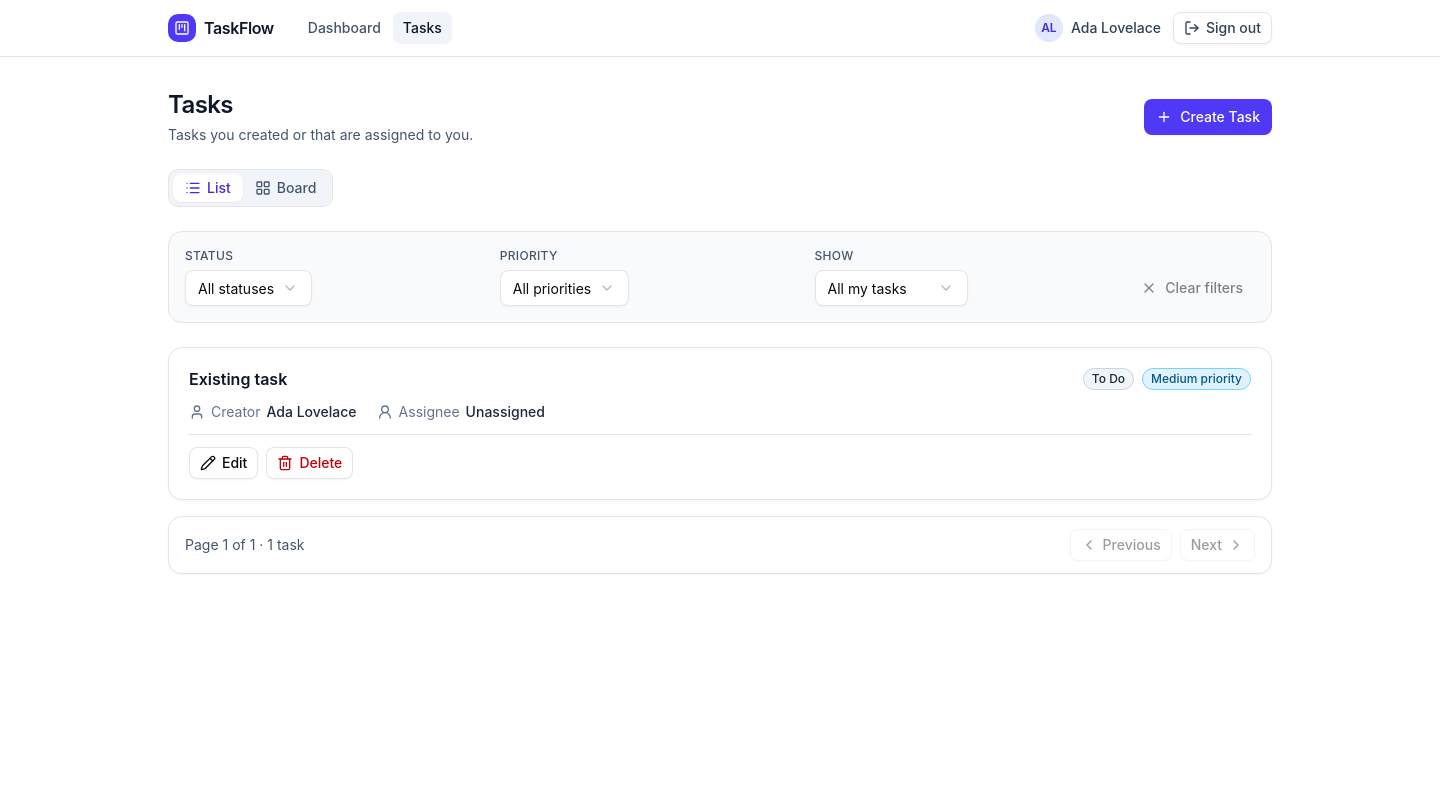
Test: create task dialog › opens with backend-consistent defaults and an unassigned assignee
The width and height of the screenshot is (1440, 810).
Click the button "Create Task" at (1208, 117), box [1144,99,1272,135]
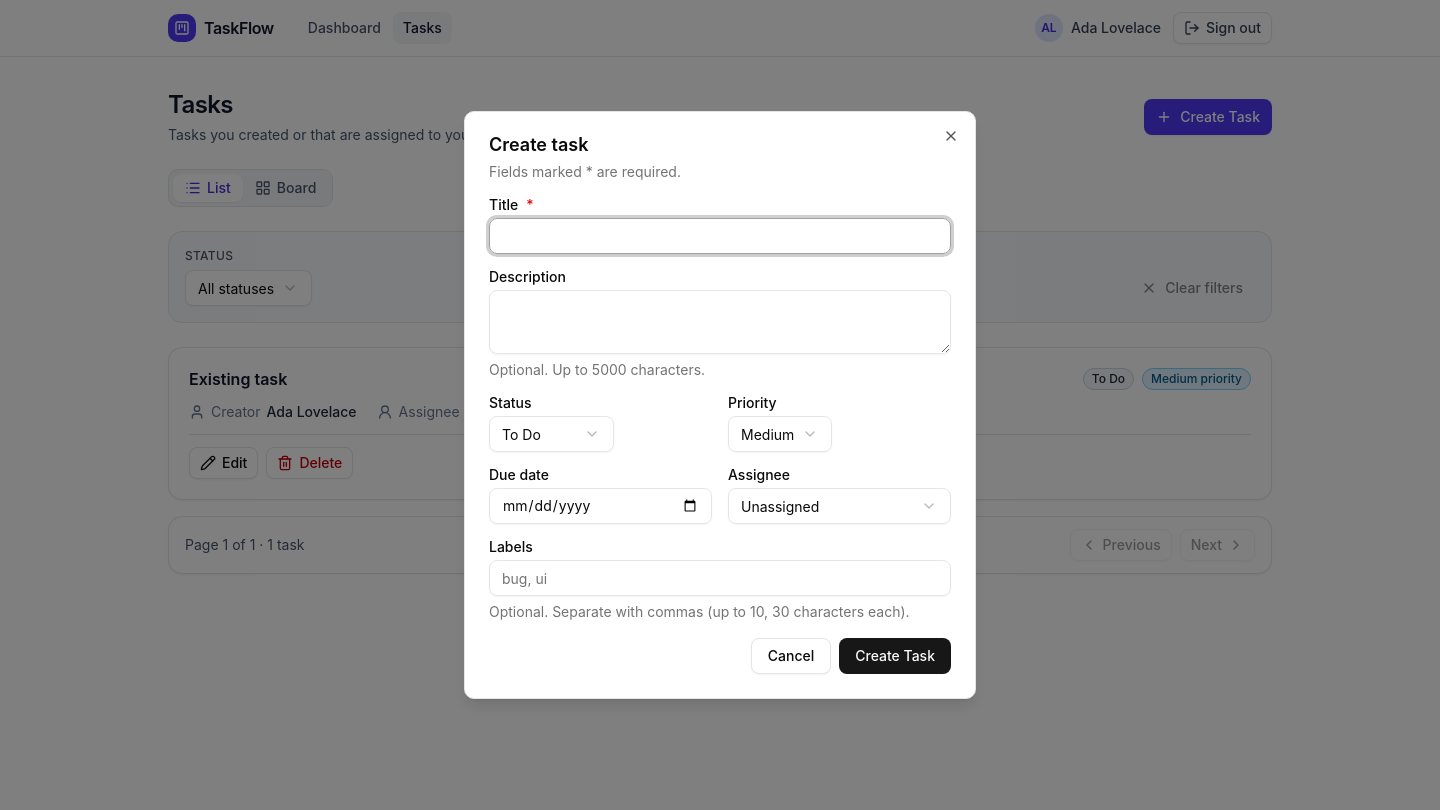
Check: the field labelled "Title *" is empty, box [489,218,951,254]
Check: the dropdown labelled "Status" shows "To Do", box [489,416,614,452]
Check: the dropdown labelled "Priority" shows "Medium", box [728,416,832,452]
